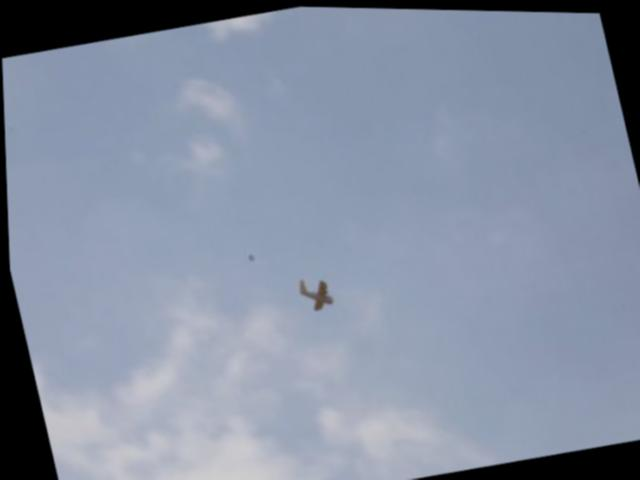uav: (293, 269, 336, 313)
